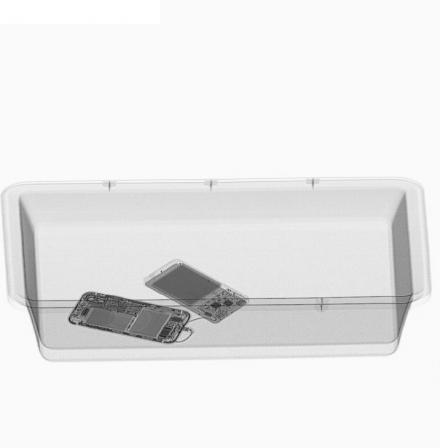Powerbank: (142, 262, 254, 324)
